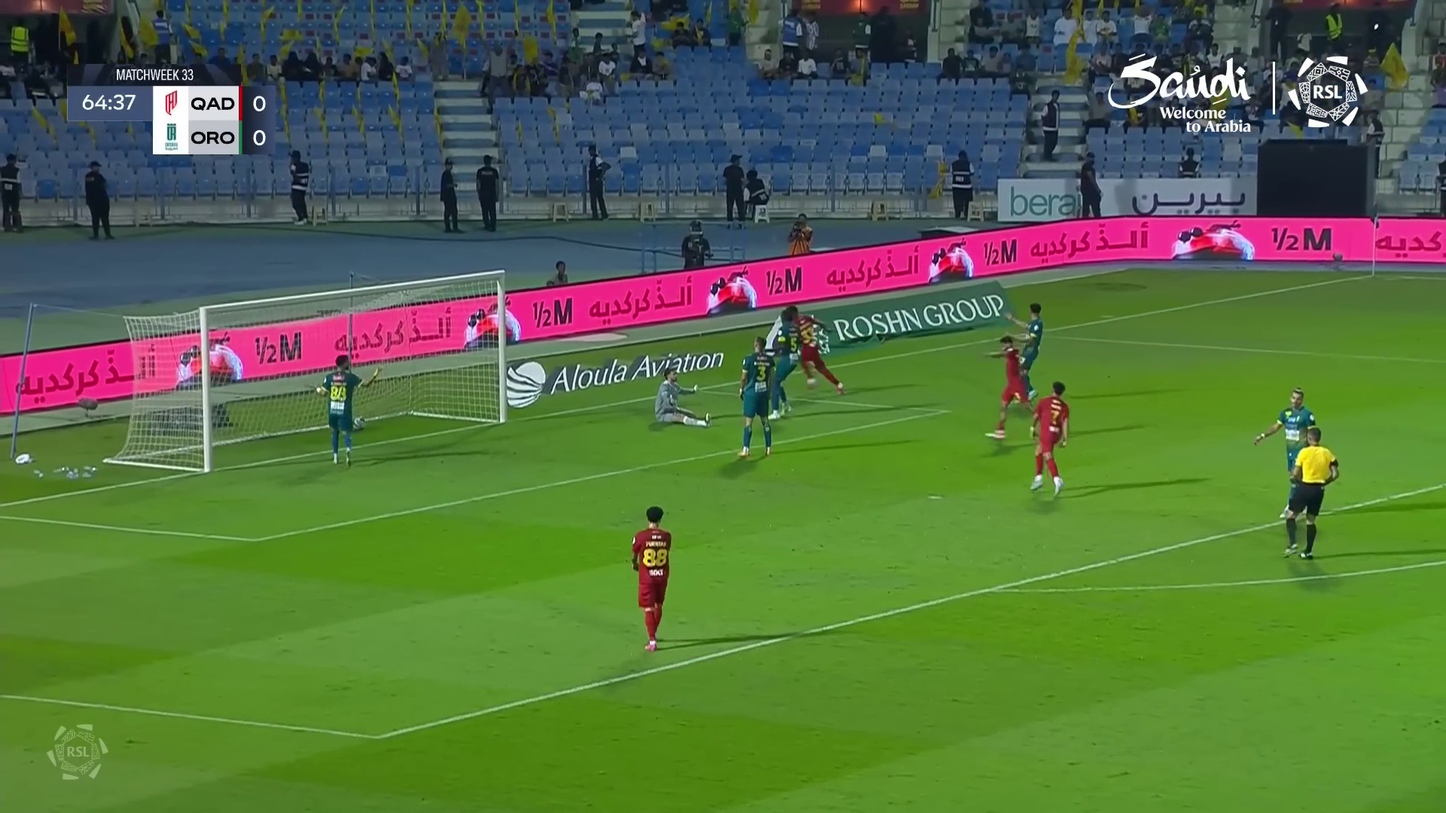ball: (351, 416, 366, 431)
player: (306, 354, 384, 468), (1251, 388, 1332, 490), (627, 504, 678, 653), (1026, 380, 1073, 498), (787, 305, 846, 398), (982, 333, 1032, 441), (736, 335, 776, 457), (767, 312, 802, 422), (648, 369, 710, 431), (1016, 301, 1049, 401)
referee: (1275, 429, 1342, 564)
